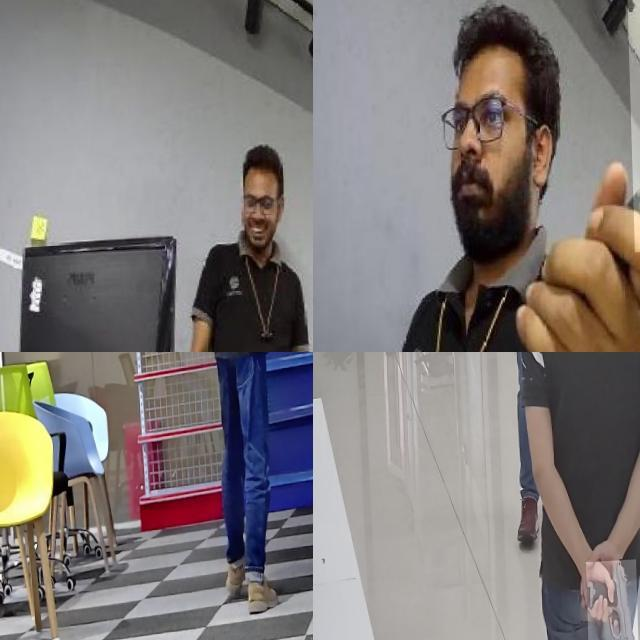gun-knife-thesis - v11 Yolov5 augmented: (582, 564, 635, 640), (256, 352, 298, 380)
